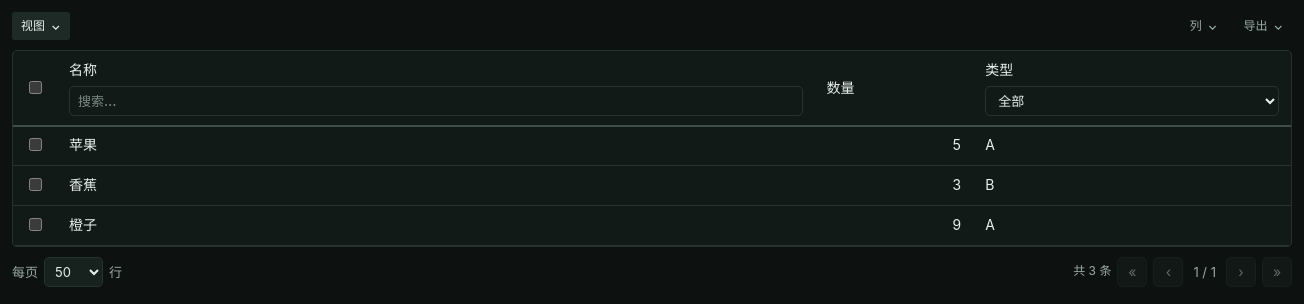
DataTable client mode › offers export toolbar and tracks selected rows
Step 1. Click the button "导出 ⌄" → x=1263, y=26, box [1234, 12, 1292, 40]
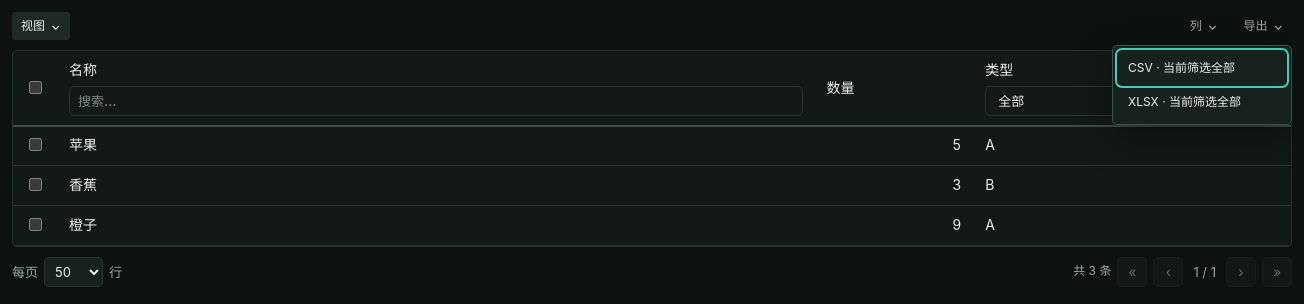
Now the menu item "CSV · 当前筛选全部" is shown, box [1119, 52, 1285, 84]
Now the menu item "XLSX · 当前筛选全部" is shown, box [1119, 86, 1285, 118]
Step 2. Click the button "导出 ⌄" → x=1263, y=26, box [1234, 12, 1292, 40]
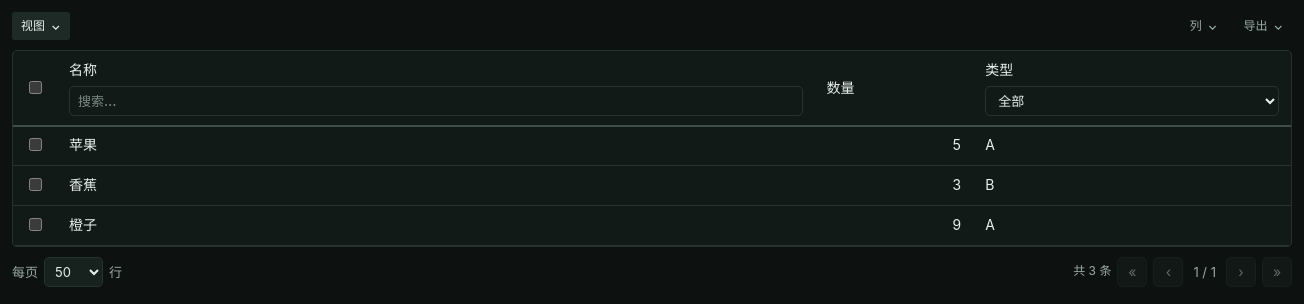
Step 3. Click the checkbox named "选择行" next to "苹果" → x=36, y=144, box [29, 138, 42, 151]
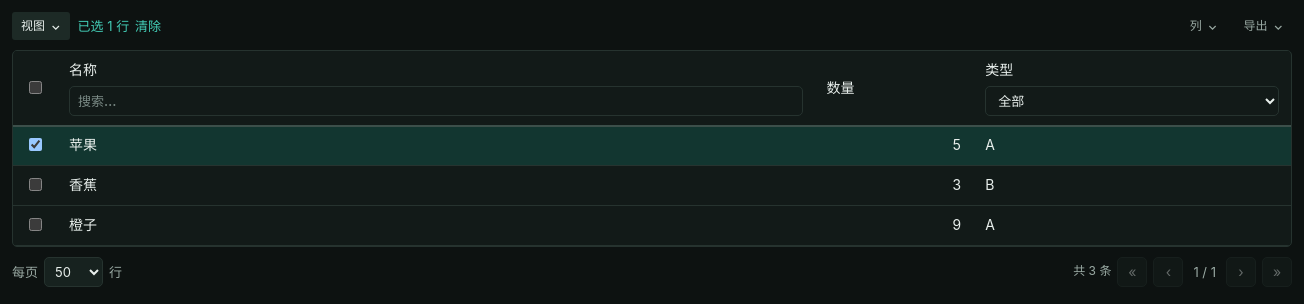
Now the text "已选 1 行 清除" is shown, box [78, 17, 163, 35]
Step 4. Click the button "清除" → x=148, y=26, box [133, 17, 163, 35]
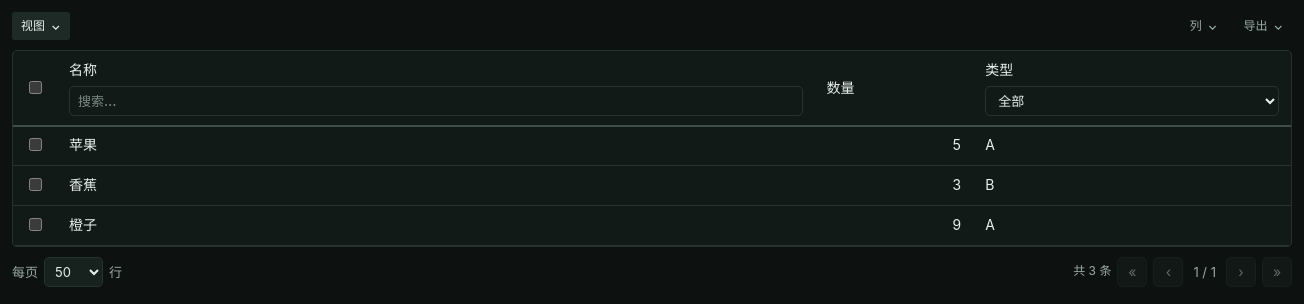
Now the text "已选" is gone
